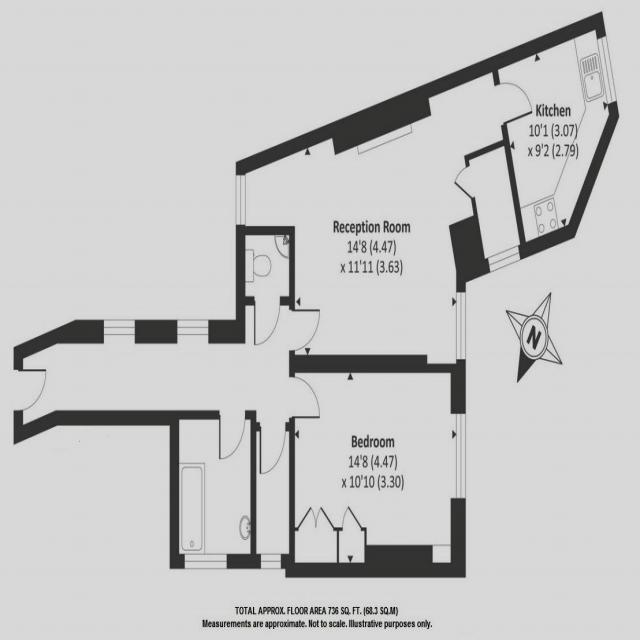DOOR: (494, 81, 534, 128), (13, 367, 48, 413), (258, 422, 286, 475), (253, 296, 281, 347), (218, 410, 246, 461), (289, 308, 321, 352), (289, 375, 320, 420)
ROOM: (235, 55, 534, 372), (289, 355, 466, 578), (490, 10, 620, 260)
WINDOW: (596, 34, 618, 107), (455, 411, 467, 500), (487, 244, 522, 274), (456, 291, 467, 361), (183, 553, 227, 570), (176, 318, 210, 337), (103, 318, 136, 336), (235, 174, 246, 226), (260, 553, 282, 570)
